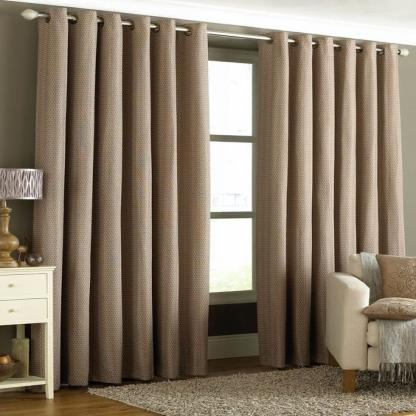Curtains: (42, 8, 404, 386)
